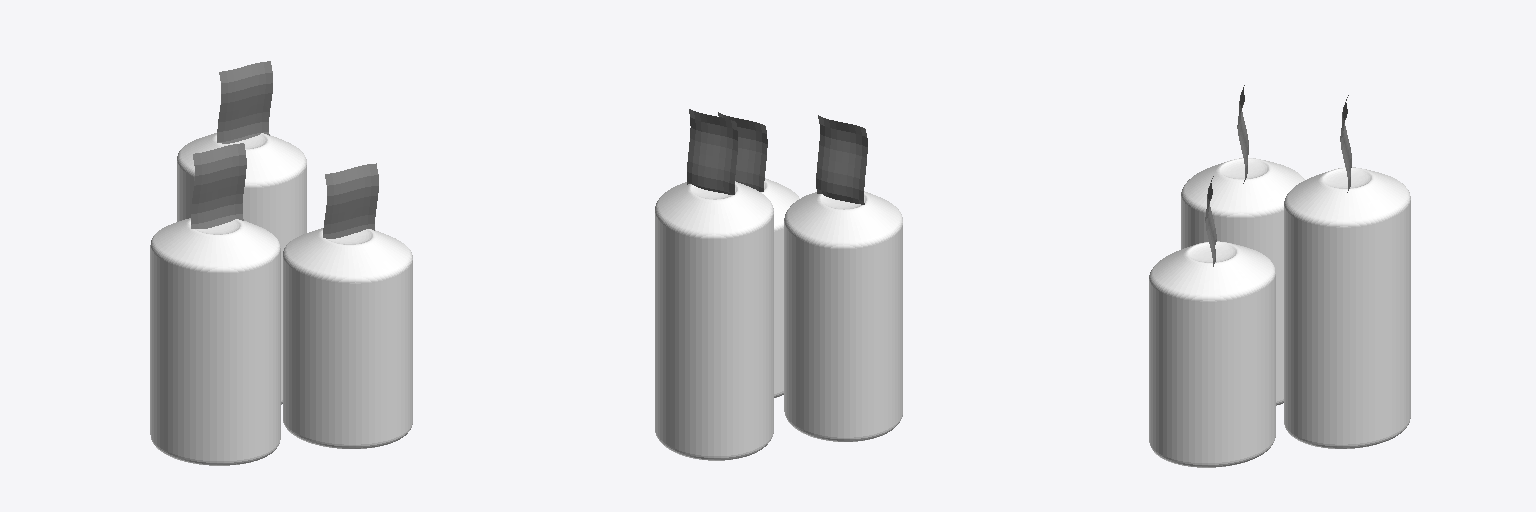
The picture shows the model from 3 angles: view 1: azimuth 30°, elevation 25°; view 2: azimuth 150°, elevation 25°; view 3: azimuth 270°, elevation 25°; orthographic projection.
Visible parts, largest first — view 1: Line13175, Line13174, Line13176, Plane1063, Plane1064, Plane1062; view 2: Line13176, Line13175, Plane1063, Plane1064, Line13174, Plane1062; view 3: Line13176, Line13174, Line13175.
Part boxes in pixels (x1,y1,x2,y2): Line13175: (150,218,280,465); Line13174: (283,228,412,448); Line13176: (177,133,306,404); Plane1063: (191,143,246,228); Plane1064: (217,61,272,143); Plane1062: (323,163,378,238); Line13176: (655,181,773,460); Line13175: (784,191,902,441); Plane1063: (816,115,867,204); Plane1064: (687,109,737,194); Line13174: (761,178,799,397); Plane1062: (718,112,767,191); Line13176: (1284,167,1410,448); Line13174: (1149,241,1275,467); Line13175: (1181,158,1304,405).
Size of the model in its own units: 1.48 by 2.03 by 1.5.
2 materials, 1 textured.